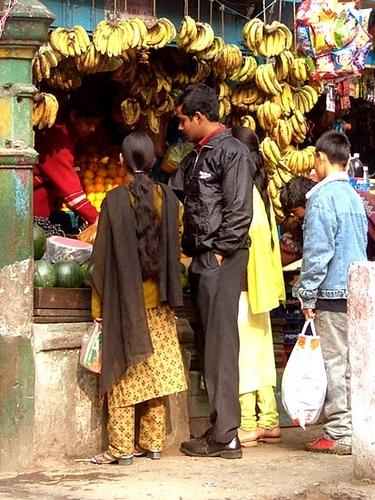banana: (239, 56, 257, 84), (274, 24, 293, 50), (268, 64, 284, 94), (146, 23, 166, 46), (195, 24, 211, 52), (44, 94, 57, 128), (263, 137, 278, 166), (92, 20, 110, 44), (50, 27, 66, 52), (118, 21, 134, 46), (190, 27, 205, 51), (258, 64, 270, 94), (129, 19, 146, 40), (100, 27, 113, 54), (73, 25, 89, 46), (32, 100, 44, 127), (300, 89, 315, 110), (148, 109, 160, 135), (279, 119, 290, 147), (238, 56, 252, 78), (162, 18, 176, 40), (242, 87, 260, 104), (189, 62, 203, 83), (229, 44, 242, 66), (276, 29, 286, 56), (280, 53, 290, 80), (256, 36, 268, 58), (282, 50, 294, 72), (213, 38, 224, 62), (231, 85, 243, 107), (270, 140, 283, 160), (121, 98, 131, 124), (118, 25, 128, 51), (130, 100, 140, 125), (303, 148, 314, 170), (80, 50, 90, 74), (266, 28, 274, 58), (251, 84, 260, 110), (112, 27, 120, 56), (298, 58, 308, 81), (276, 165, 288, 184), (34, 57, 43, 82), (282, 86, 290, 114), (123, 55, 134, 75), (272, 189, 283, 209), (158, 26, 168, 48), (264, 100, 272, 126), (272, 30, 280, 56), (300, 92, 310, 112), (288, 151, 298, 171), (73, 33, 81, 57), (45, 50, 57, 66), (250, 22, 258, 46), (258, 106, 266, 130), (288, 118, 298, 137), (183, 16, 193, 35), (256, 23, 264, 46), (273, 170, 282, 189), (294, 59, 302, 80), (261, 141, 269, 161), (268, 178, 276, 198), (226, 44, 232, 70), (302, 150, 309, 172), (273, 204, 284, 218), (149, 27, 156, 48), (206, 40, 215, 56), (64, 33, 70, 56), (298, 96, 305, 115), (298, 151, 304, 173), (222, 44, 228, 66), (264, 162, 276, 173), (278, 161, 291, 171), (168, 93, 175, 111), (158, 100, 168, 112), (89, 44, 94, 68), (223, 81, 230, 98), (296, 110, 304, 124), (218, 100, 224, 118), (274, 118, 280, 136), (296, 130, 306, 140), (138, 71, 145, 85), (60, 69, 67, 82), (179, 70, 185, 84), (292, 136, 304, 143), (182, 34, 189, 46), (156, 79, 162, 93), (270, 102, 275, 118), (66, 74, 72, 87), (219, 114, 225, 124), (156, 111, 165, 117), (237, 113, 240, 126), (136, 92, 141, 99), (229, 86, 232, 96), (227, 72, 232, 76)
orange: (95, 167, 107, 178), (107, 167, 118, 178), (101, 152, 111, 164), (88, 162, 98, 173), (85, 184, 96, 194), (87, 192, 97, 203), (82, 176, 92, 187), (108, 160, 118, 170), (117, 168, 126, 178), (94, 176, 104, 184), (95, 184, 105, 192), (87, 155, 97, 163), (95, 192, 105, 200), (88, 145, 98, 153), (94, 199, 102, 208), (96, 160, 105, 168), (114, 177, 123, 184), (104, 178, 114, 184), (104, 184, 114, 189), (79, 155, 86, 162), (122, 176, 128, 184), (113, 184, 120, 188), (118, 147, 122, 154)
watermelon: (53, 260, 84, 289), (34, 260, 57, 287), (34, 223, 47, 261), (80, 260, 92, 278)
